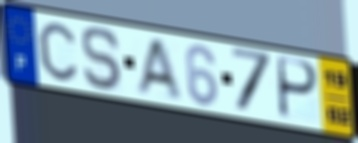6: (183, 42, 220, 108)
7: (229, 45, 274, 118)
A: (133, 38, 184, 100)
C: (36, 20, 80, 83)
P: (277, 54, 321, 123)
S: (80, 25, 126, 94)
